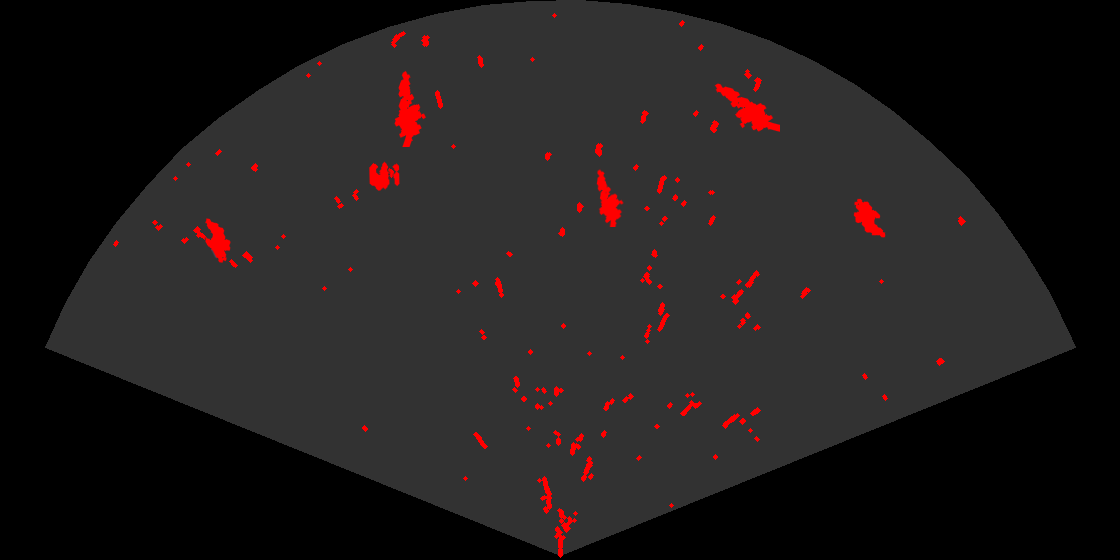AUV: (852, 197, 887, 239), (204, 217, 232, 264)
ball: (368, 160, 401, 192)
frogman: (713, 82, 780, 133), (393, 69, 427, 147), (595, 168, 625, 227)
